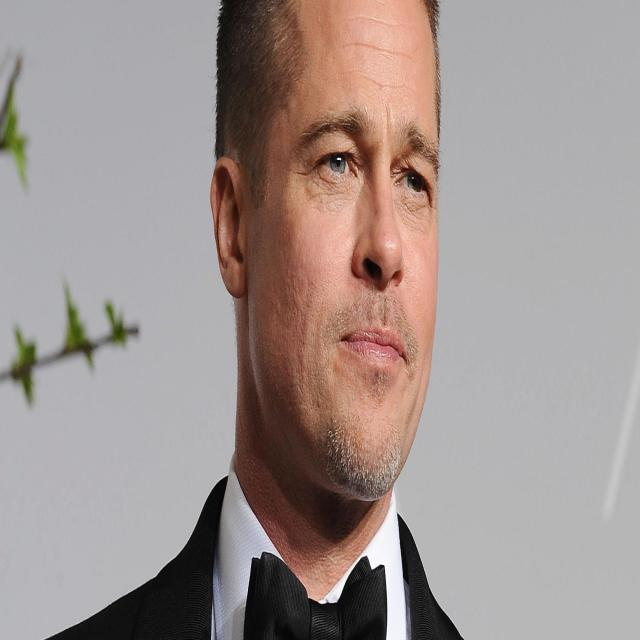no-earmuff: (208, 156, 249, 298)
